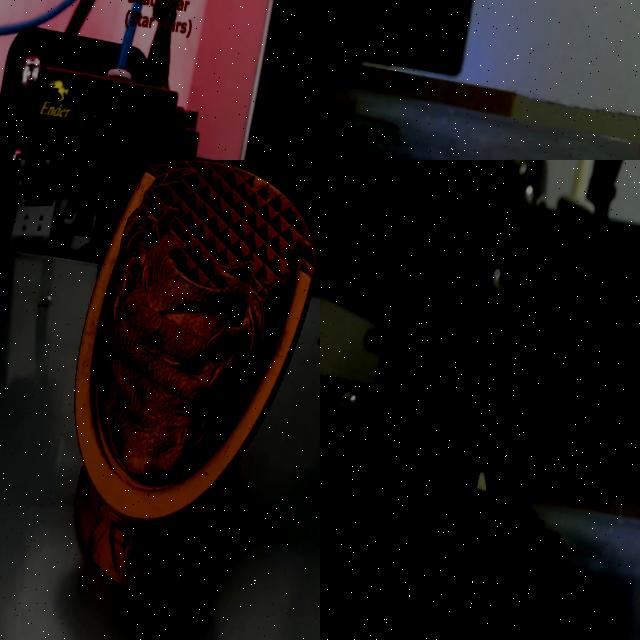spaghetti: (460, 479, 557, 557), (320, 65, 365, 148)
